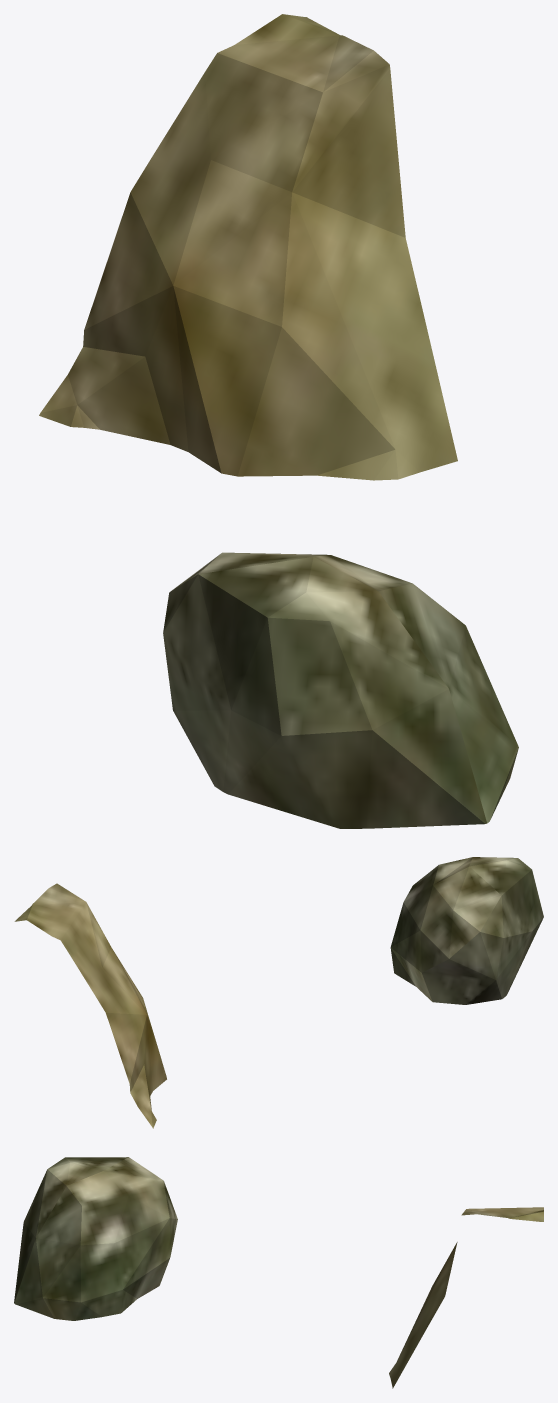
3 views of the same model, one above another, from view 1: azimuth 30°, elevation 25°; view 2: azimuth 150°, elevation 25°; view 3: azimuth 270°, elevation 25° (orthographic). The views are drawn at different scales.
Bounding box in the file's own units: 0.7566 × 0.4645 × 1.28.
1 material, 1 textured.
